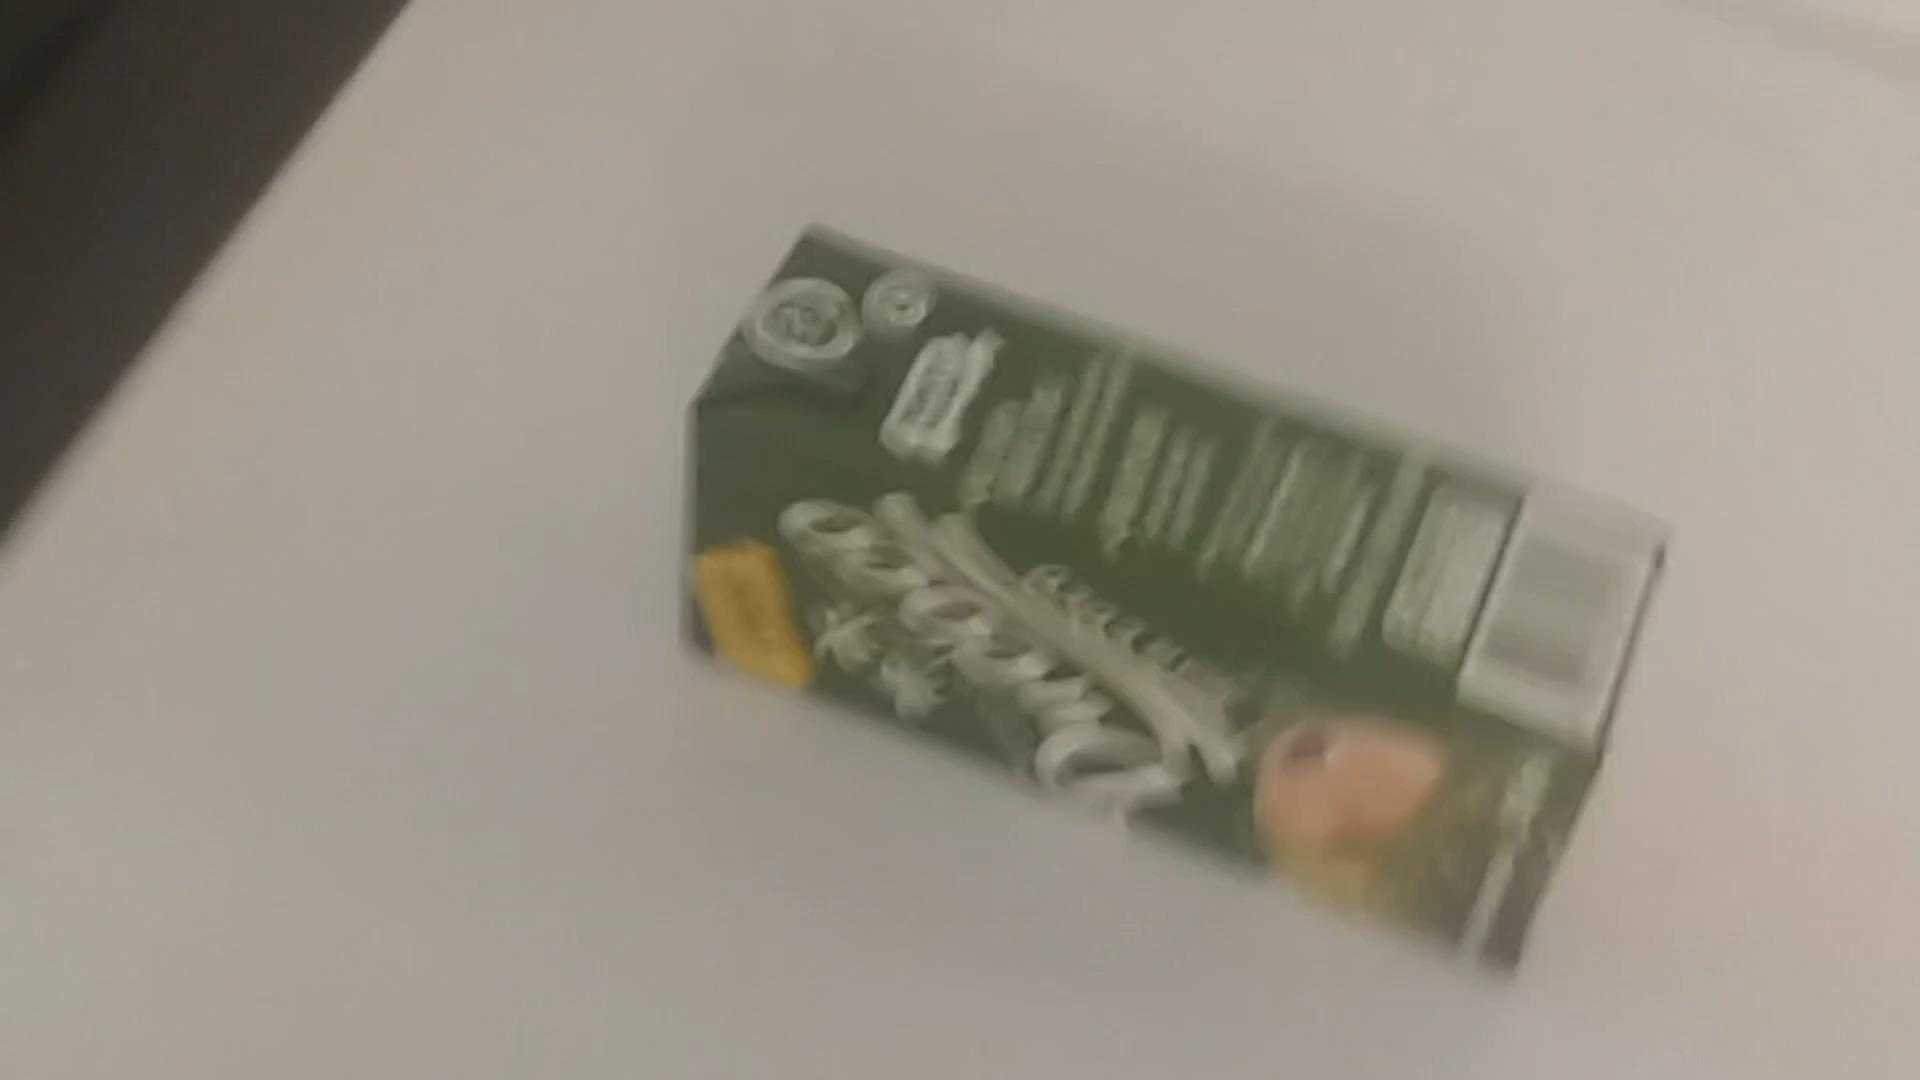coco: (628, 235, 1669, 980)
